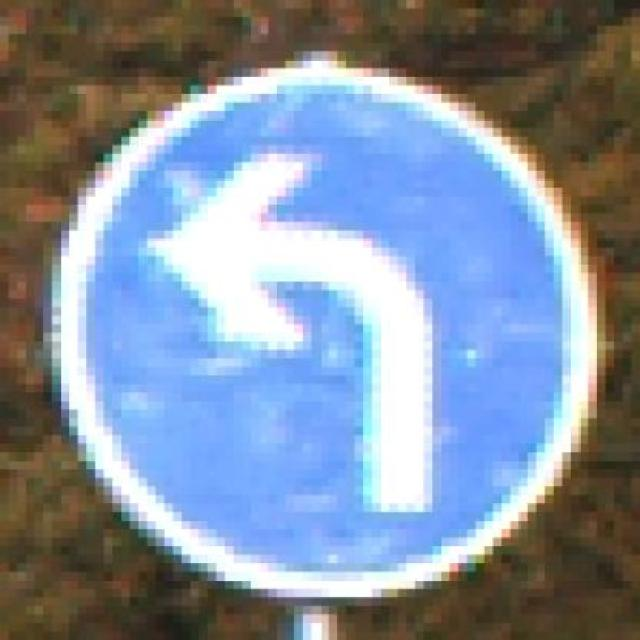Turn left ahead: (34, 60, 623, 606)
